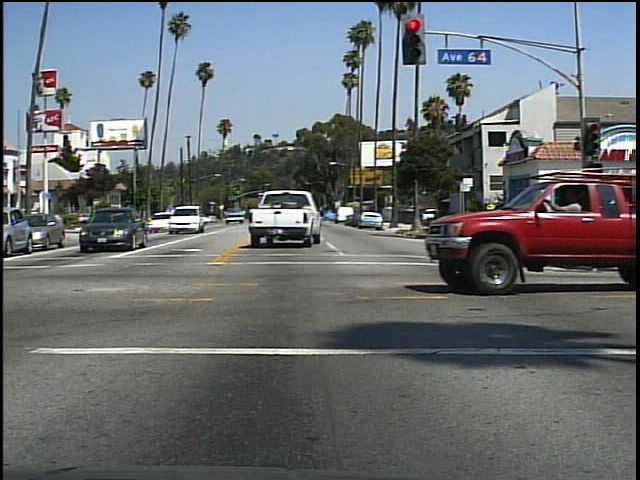person: (557, 181, 596, 296), (479, 197, 504, 236)
